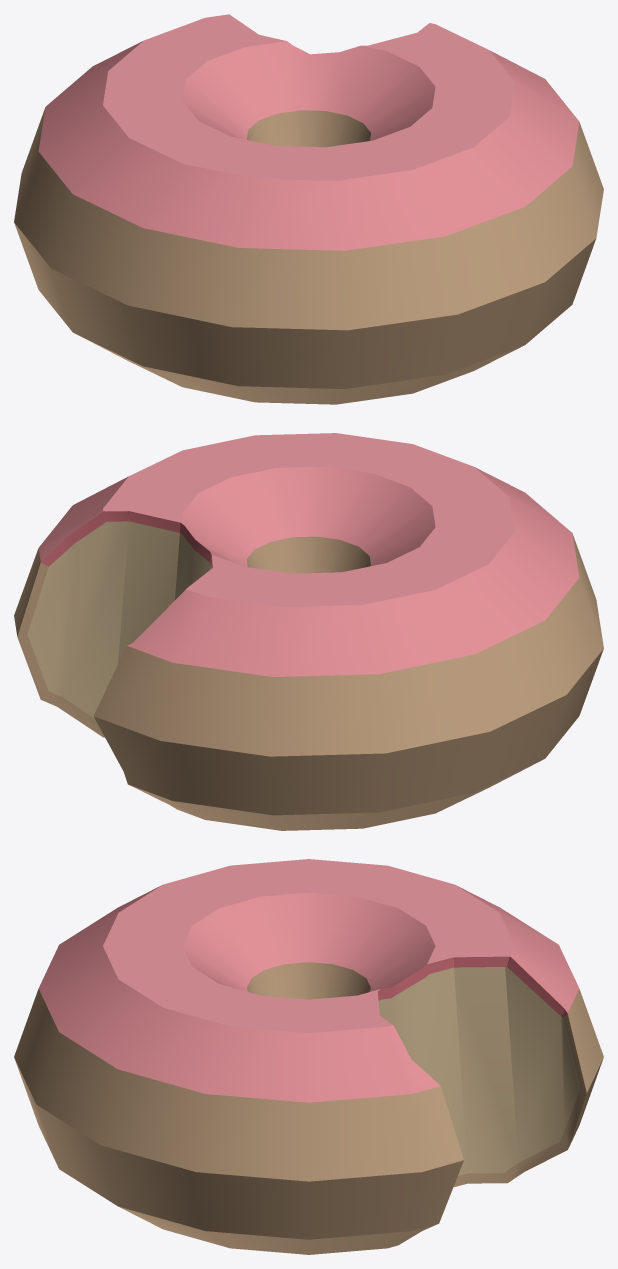
The model's file is F_Donut.fbx.
3 views of the same model, one above another, from view 1: azimuth 30°, elevation 25°; view 2: azimuth 150°, elevation 25°; view 3: azimuth 270°, elevation 25° (orthographic).
Parts seen in each view (by area): view 1: pTorus2; view 2: pTorus2; view 3: pTorus2.
Boxes of the visible parts, bbox=[...] form: pTorus2: bbox=[14, 14, 603, 404]; pTorus2: bbox=[14, 433, 603, 830]; pTorus2: bbox=[14, 859, 603, 1254].
Size of the model in its own units: 5.32 by 2.21 by 5.32.
